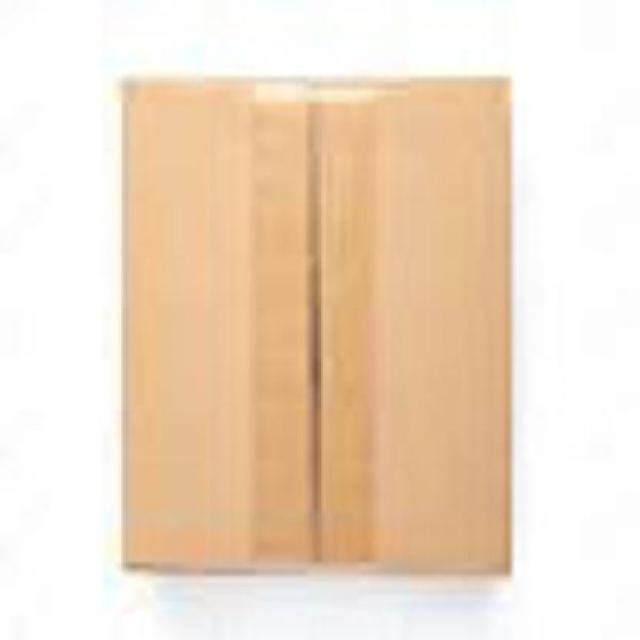normal: (112, 69, 525, 586)
